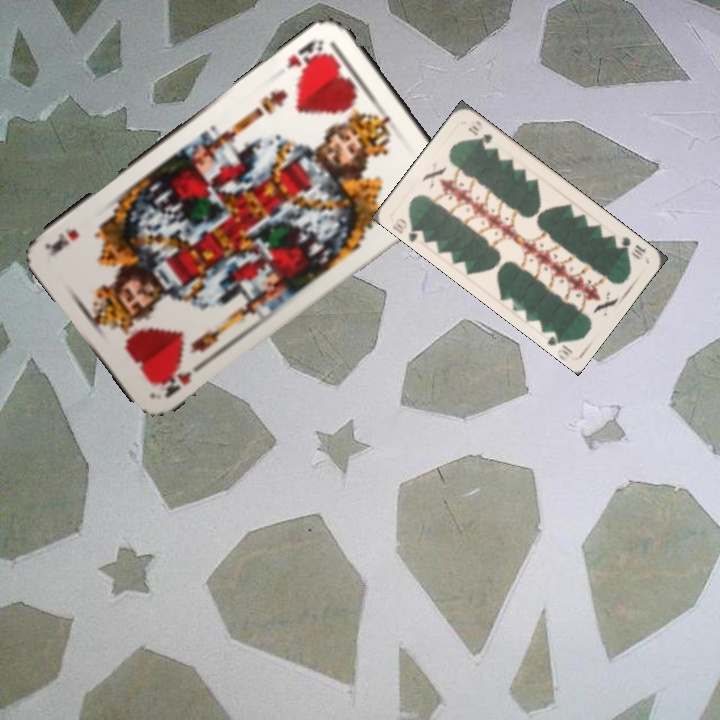G10: (611, 232, 648, 262), (391, 214, 427, 244)
HK: (158, 356, 208, 401), (282, 34, 328, 73)
